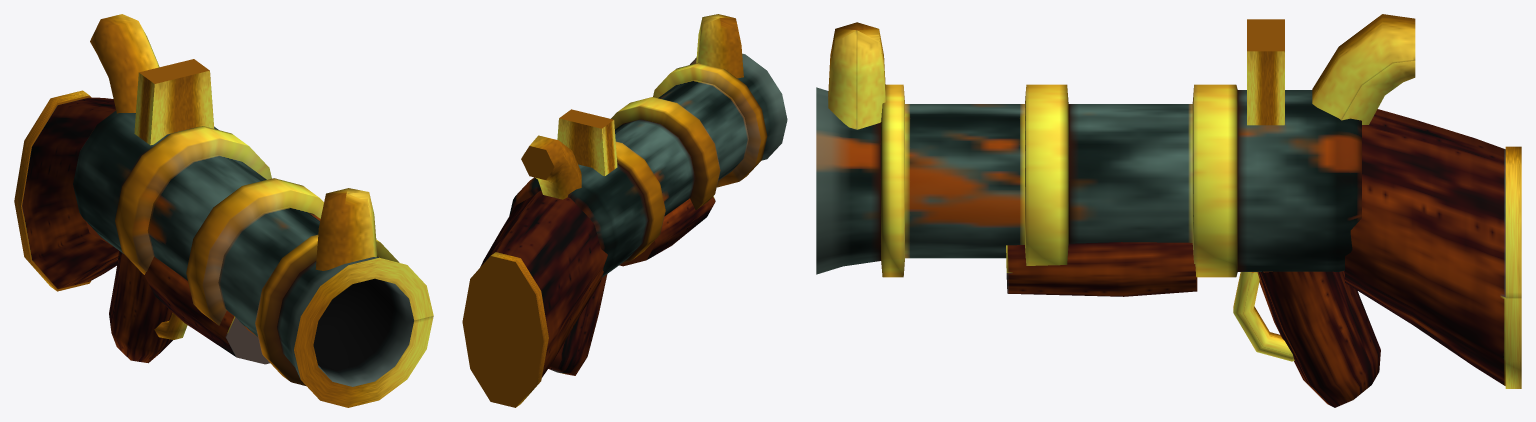
The model's file is elephant_gun.gltf.
The picture shows the model from 3 angles, left to right: view 1: azimuth 30°, elevation 25°; view 2: azimuth 150°, elevation 25°; view 3: azimuth 270°, elevation 25°; orthographic projection. The views are drawn at different scales.
Parts seen in each view (by area): view 1: ElephantGun; view 2: ElephantGun; view 3: ElephantGun.
Part boxes in pixels (left/top/right/bottom): ElephantGun: left=14, top=14, right=433, bottom=407; ElephantGun: left=462, top=14, right=787, bottom=407; ElephantGun: left=816, top=14, right=1521, bottom=407.
Size of the model in its own units: 7 by 14.97 by 25.02.
Materials: 1 (1 with a texture image).
